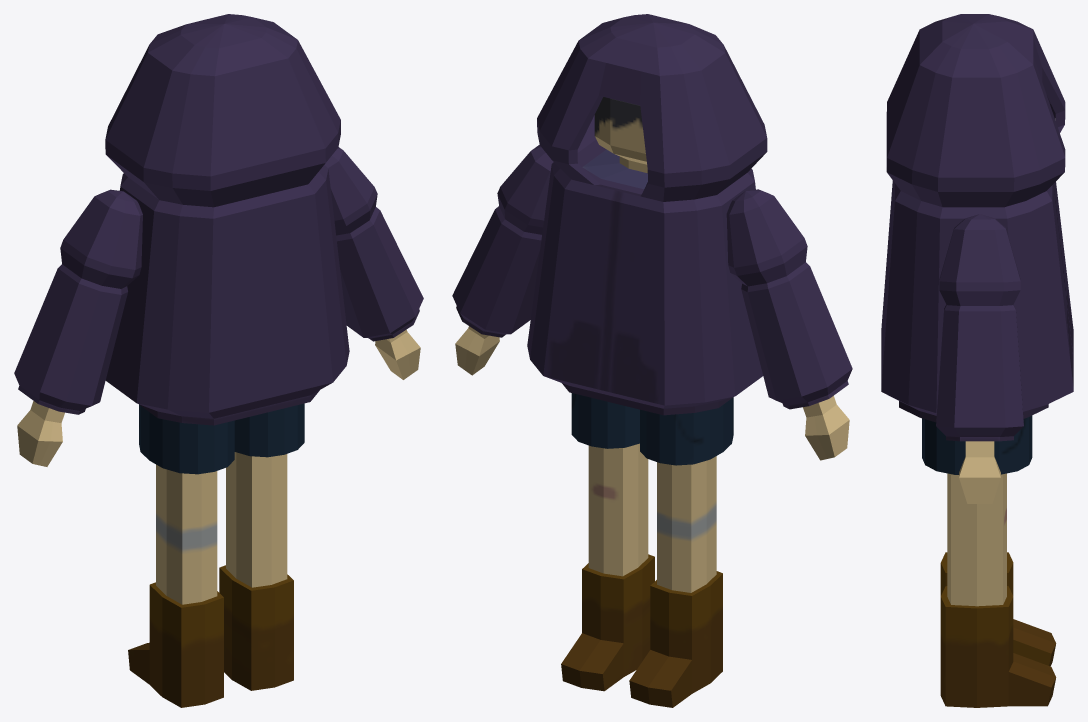
Rendered from player3.fbx.
3 renders of one model, left to right at view 1: azimuth 30°, elevation 25°; view 2: azimuth 150°, elevation 25°; view 3: azimuth 270°, elevation 25°, orthographic. The views are drawn at different scales.
Visible parts, largest first — view 1: Torso; view 2: Torso; view 3: Torso.
Part boxes in pixels (x1,y1,x2,y2): Torso: (14, 14, 423, 707); Torso: (452, 14, 852, 707); Torso: (881, 14, 1073, 707).
Bounding box in the file's own units: 507 × 829 × 221.
1 material, 1 textured.
